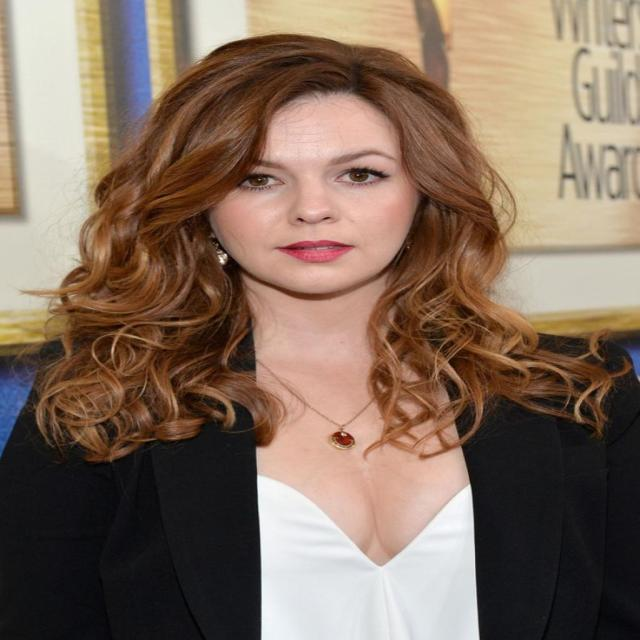Face: (160, 101, 435, 290)
